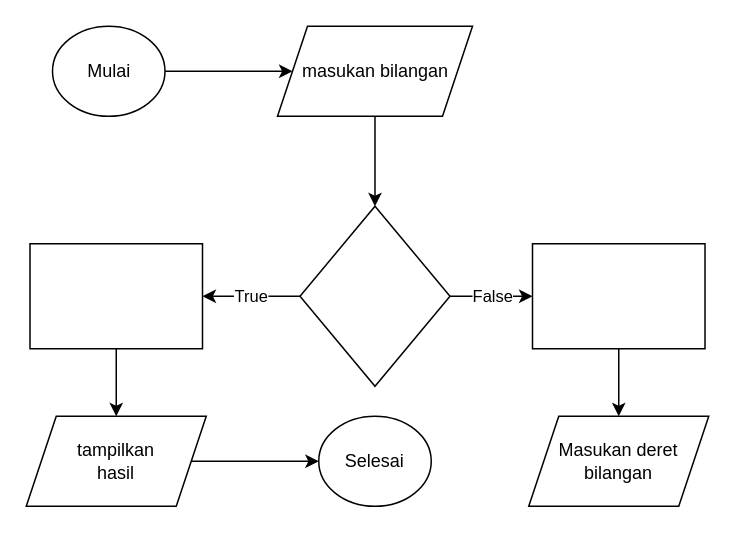
This 735x533 diagram has some shape labels left out. Here are the shapes that lost their labels. From the top down, the box of each, then its label:
(28, 242, 202, 349): pisahkan bilangan menurut angka 0
(298, 205, 450, 386): bilangan === number
(531, 242, 705, 349): pesan error
